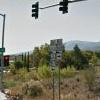Traffic light: (25, 2, 79, 25)
